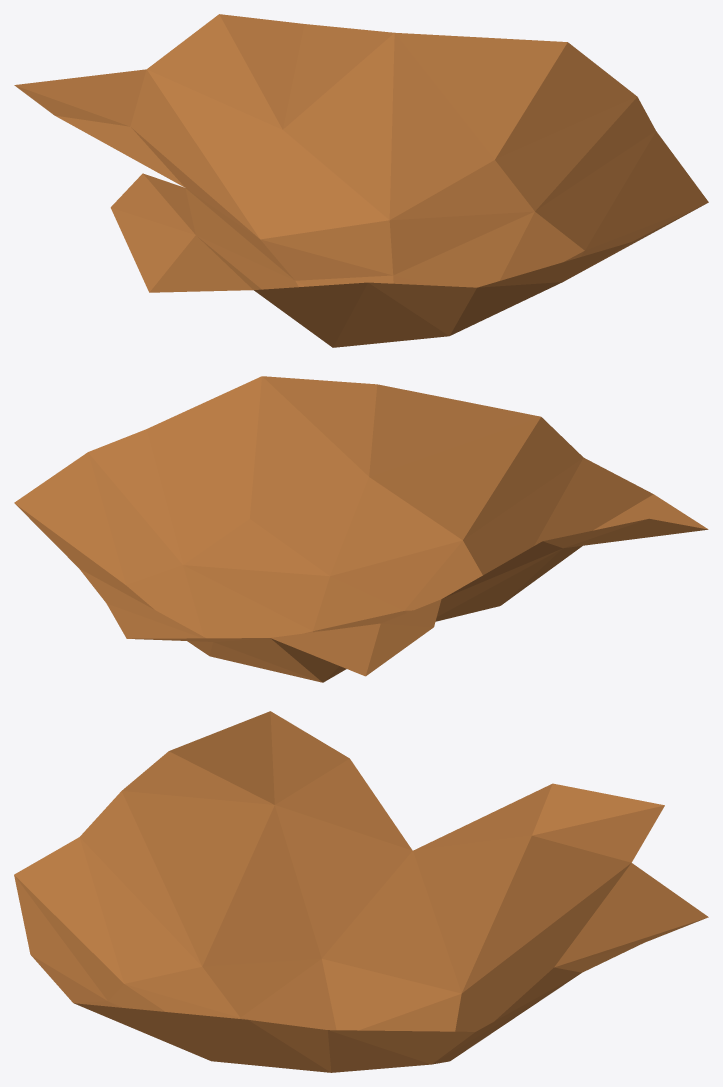
The model's file is LakeGround.FBX.
3 views of the same model, one above another, from view 1: azimuth 30°, elevation 25°; view 2: azimuth 150°, elevation 25°; view 3: azimuth 270°, elevation 25° (orthographic). The views are drawn at different scales.
Parts seen in each view (by area): view 1: LakeGround; view 2: LakeGround; view 3: LakeGround.
Boxes of the visible parts, x1,y1,x2,y2 form: LakeGround: (14,14,708,347); LakeGround: (14,376,708,682); LakeGround: (14,711,708,1072).
Bounding box in the file's own units: 2280 × 659 × 2385.
